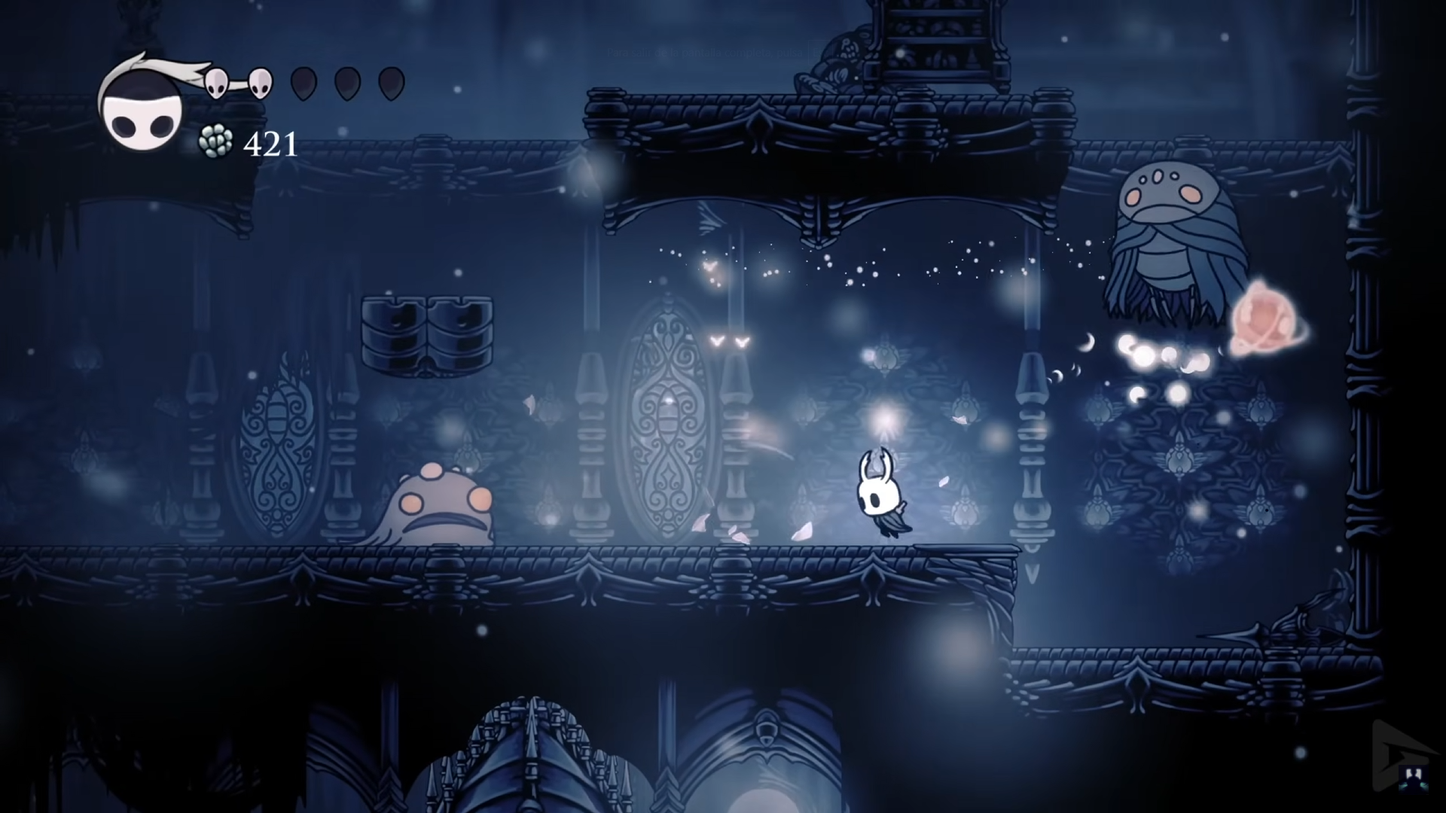HK: (853, 445, 913, 543)
